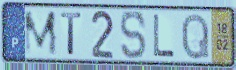2: (91, 9, 115, 60)
L: (152, 13, 176, 59)
M: (23, 9, 60, 57)
Q: (180, 11, 211, 62)
S: (119, 9, 148, 61)
T: (60, 10, 84, 57)
